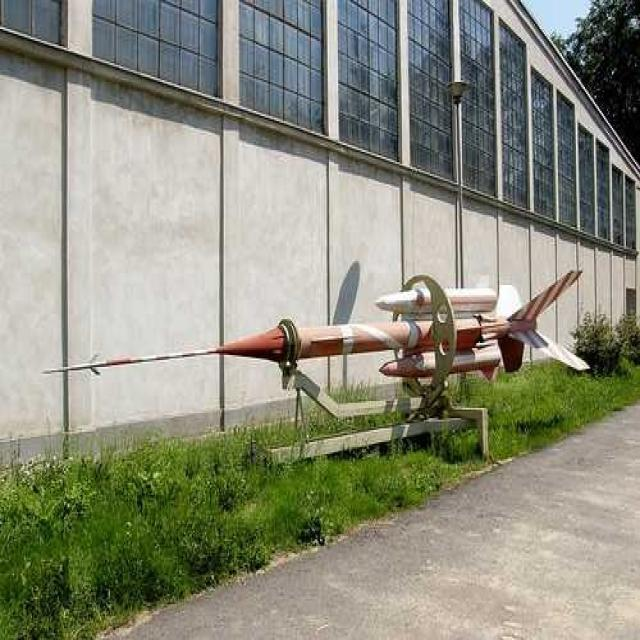missile: (77, 266, 591, 382)
